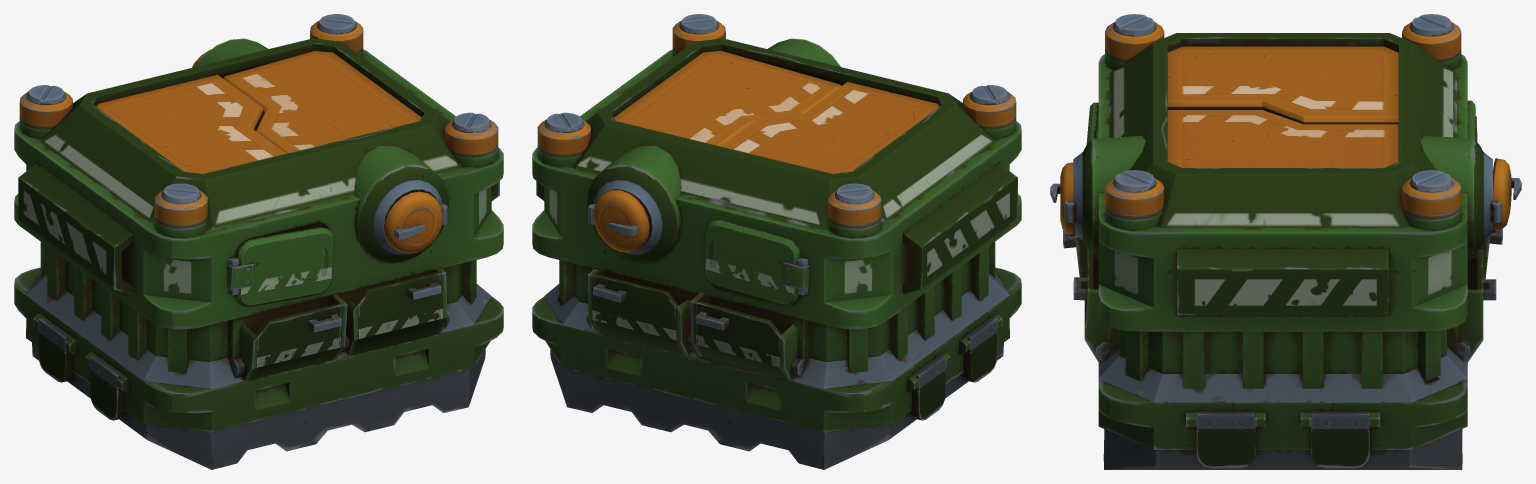
File: obj_survivalobjects_ruinchest.fbx
3 renders of one model, left to right at view 1: azimuth 30°, elevation 25°; view 2: azimuth 150°, elevation 25°; view 3: azimuth 270°, elevation 25°, orthographic. The views are drawn at different scales.
Parts seen in each view (by area): view 1: obj_survivalobjects_ruinchest_pose0; view 2: obj_survivalobjects_ruinchest_pose0; view 3: obj_survivalobjects_ruinchest_pose0.
Boxes of the visible parts, bbox=[...] form: obj_survivalobjects_ruinchest_pose0: bbox=[14, 14, 503, 469]; obj_survivalobjects_ruinchest_pose0: bbox=[532, 14, 1021, 469]; obj_survivalobjects_ruinchest_pose0: bbox=[1050, 14, 1521, 469].
Size of the model in its own units: 13.29 by 8.99 by 12.76.
